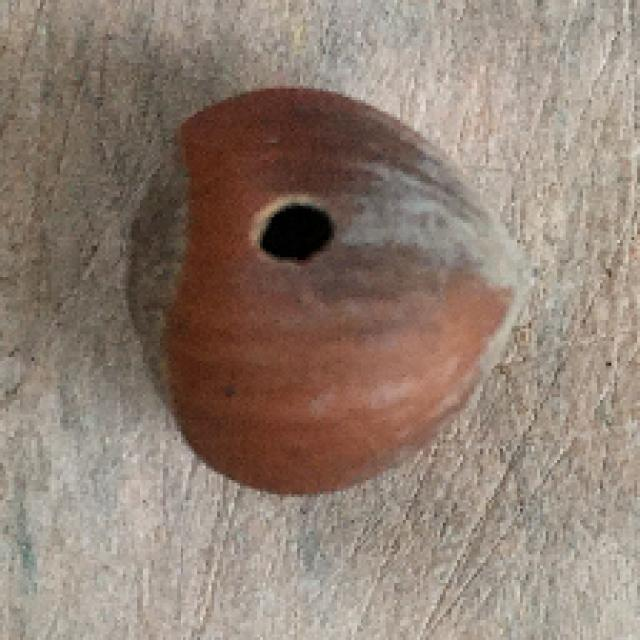damagedHazelnut: (111, 82, 544, 501)
